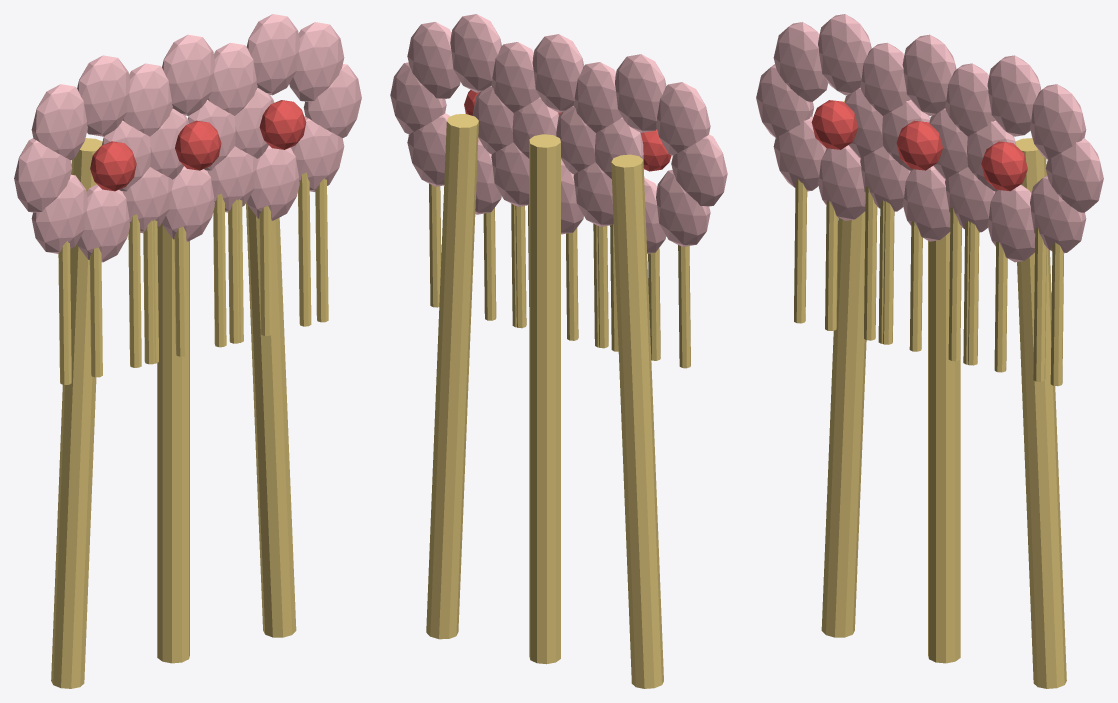
Rendered from kabuki_onnagata_kanzashi.glb.
3 renders of one model, left to right at view 1: azimuth 30°, elevation 25°; view 2: azimuth 150°, elevation 25°; view 3: azimuth 330°, elevation 25°, orthographic. The views are drawn at different scales.
Visible parts, largest first — view 1: Ornate kanzashi hair stick, Ornate kanzashi hair stick.002, Ornate kanzashi hair stick.001, Kabuki onnagata kanzashi flower petal.002, Kabuki onnagata kanzashi flower petal.018, Kabuki onnagata kanzashi flower petal.010, Kabuki onnagata kanzashi flower petal.003, Kabuki onnagata kanzashi flower petal.017, Kabuki onnagata kanzashi flower petal.004, Kabuki onnagata kanzashi flower petal.006, Kabuki onnagata kanzashi flower petal.005, Kabuki onnagata kanzashi flower petal.014 (+30 smaller); view 2: Ornate kanzashi hair stick, Ornate kanzashi hair stick.002, Ornate kanzashi hair stick.001, Kabuki onnagata kanzashi flower petal.002, Kabuki onnagata kanzashi flower petal.018, Kabuki onnagata kanzashi flower petal.010, Kabuki onnagata kanzashi flower petal.003, Kabuki onnagata kanzashi flower petal.017, Kabuki onnagata kanzashi flower petal.004, Kabuki onnagata kanzashi flower petal.005, Kabuki onnagata kanzashi flower petal.016, Kabuki onnagata kanzashi flower petal.023 (+26 smaller); view 3: Ornate kanzashi hair stick.002, Ornate kanzashi hair stick, Ornate kanzashi hair stick.001, Kabuki onnagata kanzashi flower petal.018, Kabuki onnagata kanzashi flower petal.002, Kabuki onnagata kanzashi flower petal.010, Kabuki onnagata kanzashi flower petal.017, Kabuki onnagata kanzashi flower petal.003, Kabuki onnagata kanzashi flower petal.016, Kabuki onnagata kanzashi flower petal.022, Kabuki onnagata kanzashi flower petal.014, Kabuki onnagata kanzashi flower petal.006 (+30 smaller).
Part boxes in pixels (x1,y1,x2,y2): Ornate kanzashi hair stick: (51,138,102,688); Ornate kanzashi hair stick.002: (246,101,296,637); Ornate kanzashi hair stick.001: (157,223,189,663); Kabuki onnagata kanzashi flower petal.002: (77,55,130,136); Kabuki onnagata kanzashi flower petal.018: (246,14,299,95); Kabuki onnagata kanzashi flower petal.010: (162,34,215,115); Kabuki onnagata kanzashi flower petal.003: (31,84,87,160); Kabuki onnagata kanzashi flower petal.017: (289,22,344,101); Kabuki onnagata kanzashi flower petal.004: (14,138,72,212); Kabuki onnagata kanzashi flower petal.006: (77,184,129,262); Kabuki onnagata kanzashi flower petal.005: (31,174,87,253); Kabuki onnagata kanzashi flower petal.014: (162,166,214,241); Ornate kanzashi hair stick: (611,154,663,688); Ornate kanzashi hair stick.002: (426,114,478,639); Ornate kanzashi hair stick.001: (529,134,560,664); Kabuki onnagata kanzashi flower petal.002: (615,54,666,132); Kabuki onnagata kanzashi flower petal.018: (450,14,501,92); Kabuki onnagata kanzashi flower petal.010: (532,34,584,112); Kabuki onnagata kanzashi flower petal.003: (656,82,710,155); Kabuki onnagata kanzashi flower petal.017: (407,22,460,99); Kabuki onnagata kanzashi flower petal.004: (671,134,727,206); Kabuki onnagata kanzashi flower petal.005: (656,170,710,246); Kabuki onnagata kanzashi flower petal.016: (390,62,446,134); Kabuki onnagata kanzashi flower petal.023: (407,113,449,186); Ornate kanzashi hair stick.002: (1015,138,1066,688); Ornate kanzashi hair stick: (821,99,866,637); Ornate kanzashi hair stick.001: (928,232,960,663); Kabuki onnagata kanzashi flower petal.018: (987,55,1041,136); Kabuki onnagata kanzashi flower petal.002: (818,14,871,95); Kabuki onnagata kanzashi flower petal.010: (902,34,956,115); Kabuki onnagata kanzashi flower petal.017: (1030,84,1086,160); Kabuki onnagata kanzashi flower petal.003: (773,22,828,102); Kabuki onnagata kanzashi flower petal.016: (1045,138,1103,212); Kabuki onnagata kanzashi flower petal.022: (987,184,1035,262); Kabuki onnagata kanzashi flower petal.014: (902,166,950,241); Kabuki onnagata kanzashi flower petal.006: (818,145,865,220).
Bounding box in the file's own units: 1.11 × 1.95 × 0.2404.
